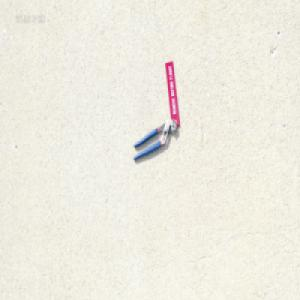Label: (165, 59, 180, 125)
Pliers: (132, 118, 176, 161)
